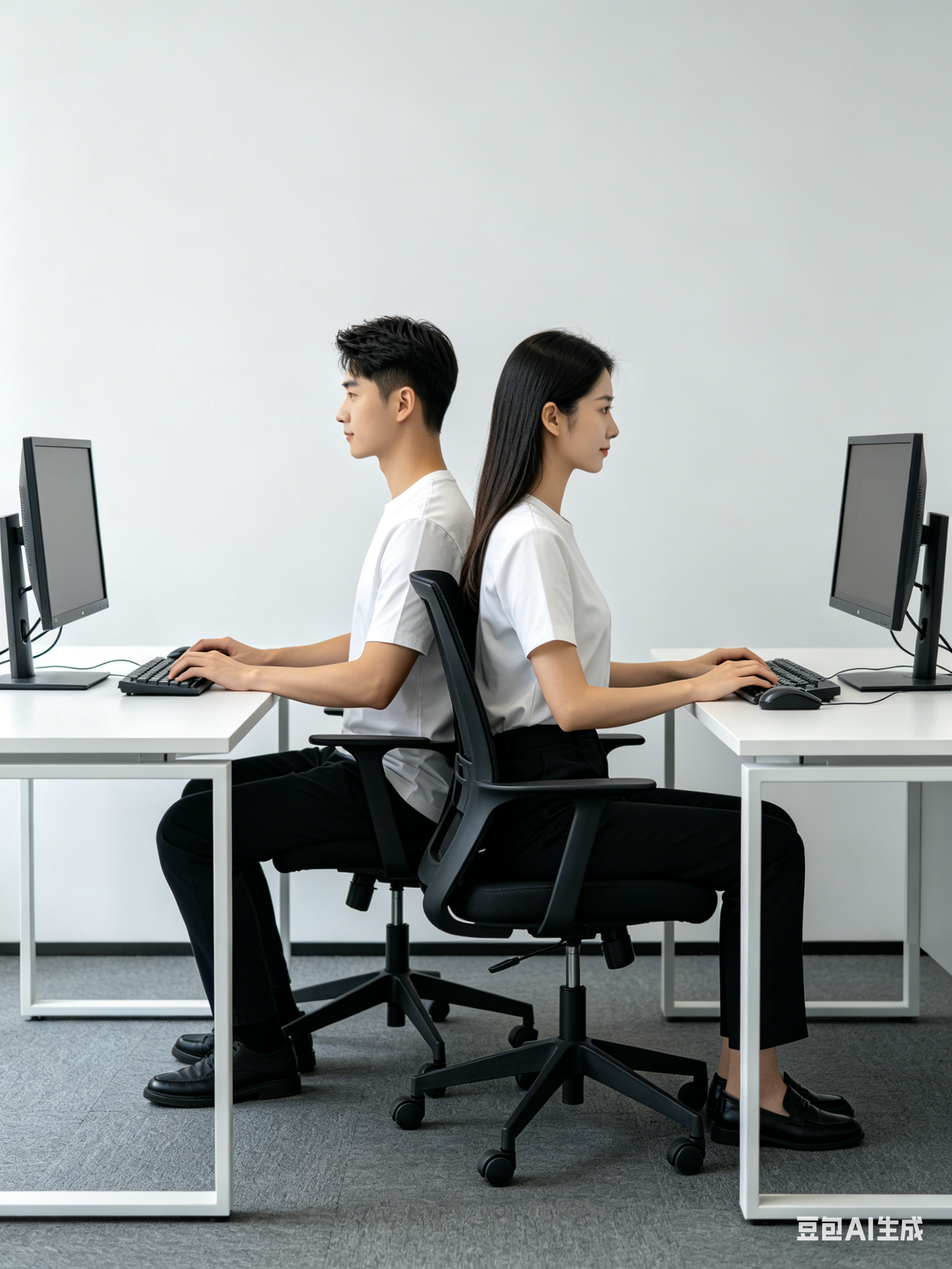sitting_good: (170, 299, 474, 1188), (468, 304, 773, 1186)
